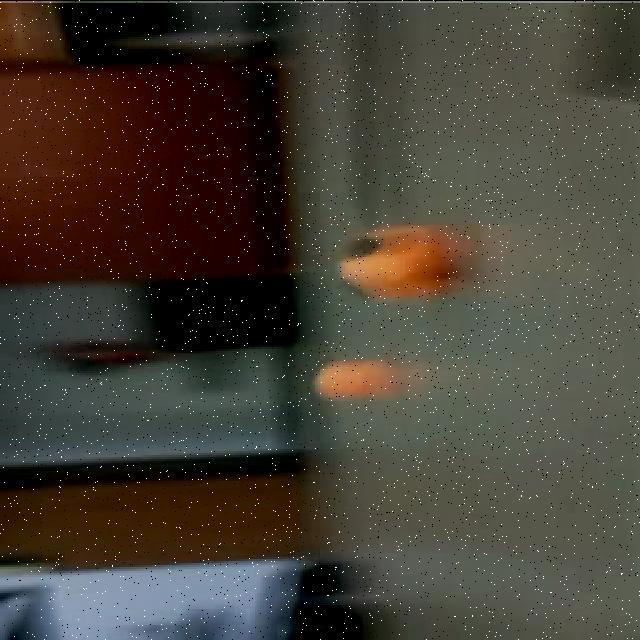ping-pong-ball: (328, 220, 472, 300), (308, 353, 387, 401)
